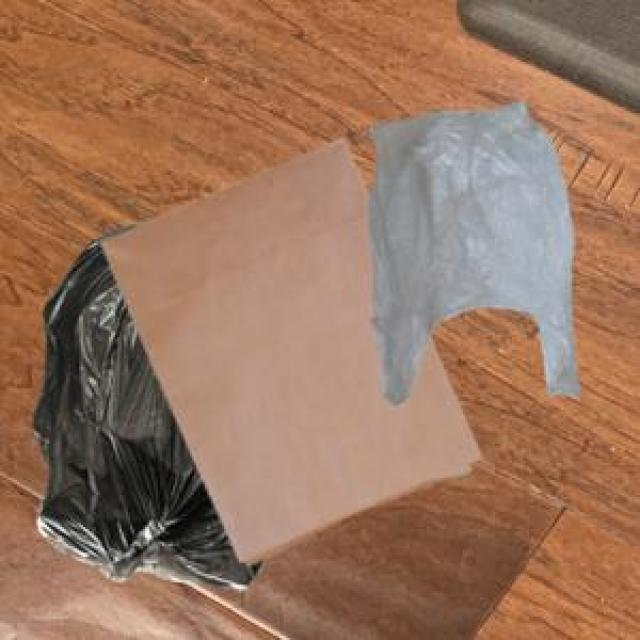miscellaneous trash: (30, 221, 262, 585)
paper: (98, 134, 476, 561)
